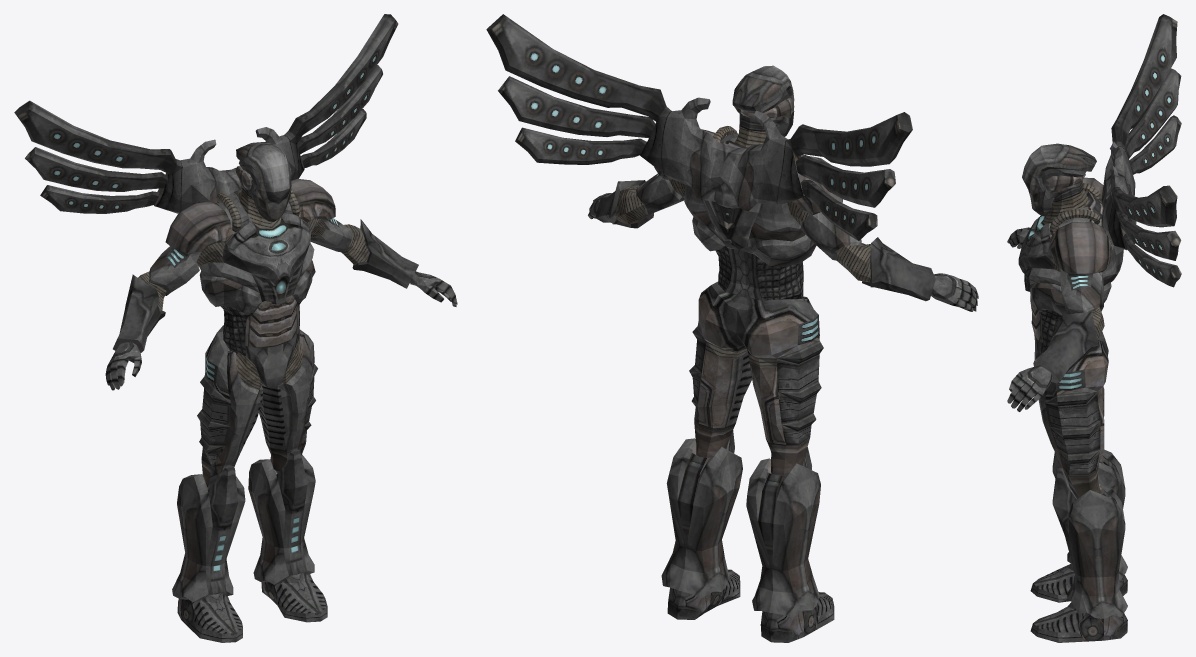
Rendered from angelT-pose.fbx.
3 views of the same model, side by side, from view 1: azimuth 30°, elevation 25°; view 2: azimuth 150°, elevation 25°; view 3: azimuth 270°, elevation 25° (orthographic). The views are drawn at different scales.
Parts seen in each view (by area): view 1: Object_3, Object_2, Object_1; view 2: Object_3, Object_2, Object_1; view 3: Object_3, Object_2, Object_1.
Part boxes in pixels (x1,y1,x2,y2): Object_3: [14, 14, 418, 352]; Object_2: [172, 325, 327, 642]; Object_1: [105, 271, 457, 390]; Object_3: [486, 14, 935, 301]; Object_2: [661, 281, 834, 642]; Object_1: [588, 193, 978, 311]; Object_3: [1018, 14, 1181, 383]; Object_2: [1030, 331, 1127, 642]; Object_1: [1007, 227, 1052, 411].
Bounding box in the file's own units: 149 × 196 × 60.66.
Materials: 1 (1 with a texture image).
